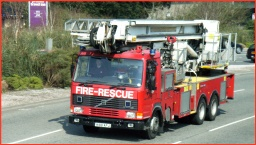truck: (61, 12, 235, 139)
